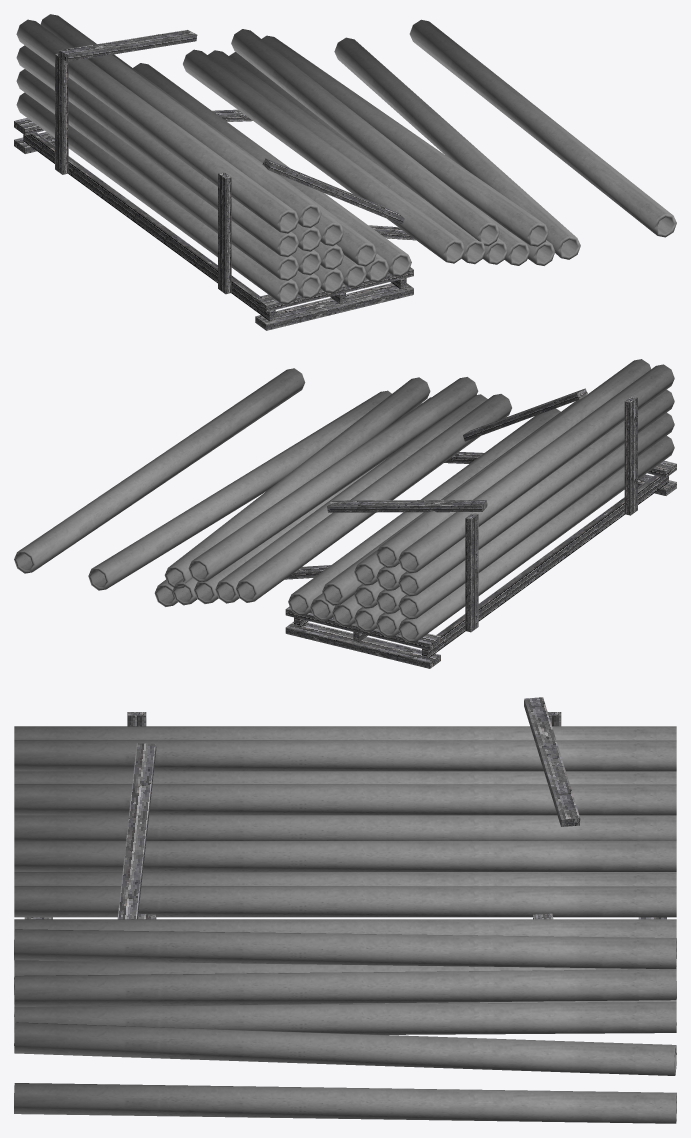
Rendered from Classic64_PvcPipePalletBroken_Model.fbx.
The picture shows the model from 3 angles, top to bottom: view 1: azimuth 30°, elevation 25°; view 2: azimuth 150°, elevation 25°; view 3: azimuth 270°, elevation 25°; orthographic projection. The views are drawn at different scales.
Visible parts, largest first — view 1: Classic64_PvcPipePalletBroken_Part000, Classic64_PvcPipePalletBroken_Part001; view 2: Classic64_PvcPipePalletBroken_Part000, Classic64_PvcPipePalletBroken_Part001; view 3: Classic64_PvcPipePalletBroken_Part000, Classic64_PvcPipePalletBroken_Part001.
Part boxes in pixels (x1=…): Classic64_PvcPipePalletBroken_Part000: x1=16, y1=14, x2=676, y2=304; Classic64_PvcPipePalletBroken_Part001: x1=14, y1=30, x2=415, y2=330; Classic64_PvcPipePalletBroken_Part000: x1=14, y1=359, x2=674, y2=642; Classic64_PvcPipePalletBroken_Part001: x1=285, y1=388, x2=676, y2=668; Classic64_PvcPipePalletBroken_Part000: x1=14, y1=726, x2=676, y2=1123; Classic64_PvcPipePalletBroken_Part001: x1=24, y1=697, x2=666, y2=919.
Size of the model in its own units: 2.89 by 0.8572 by 3.05.
